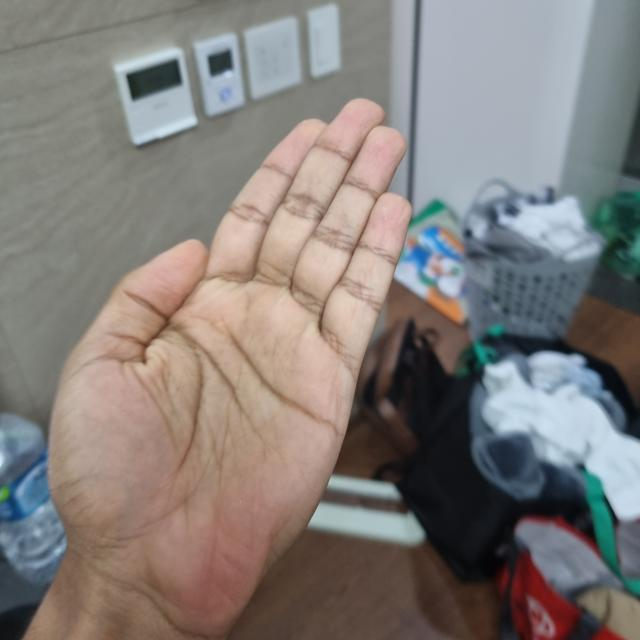Paper: (141, 100, 410, 631)
